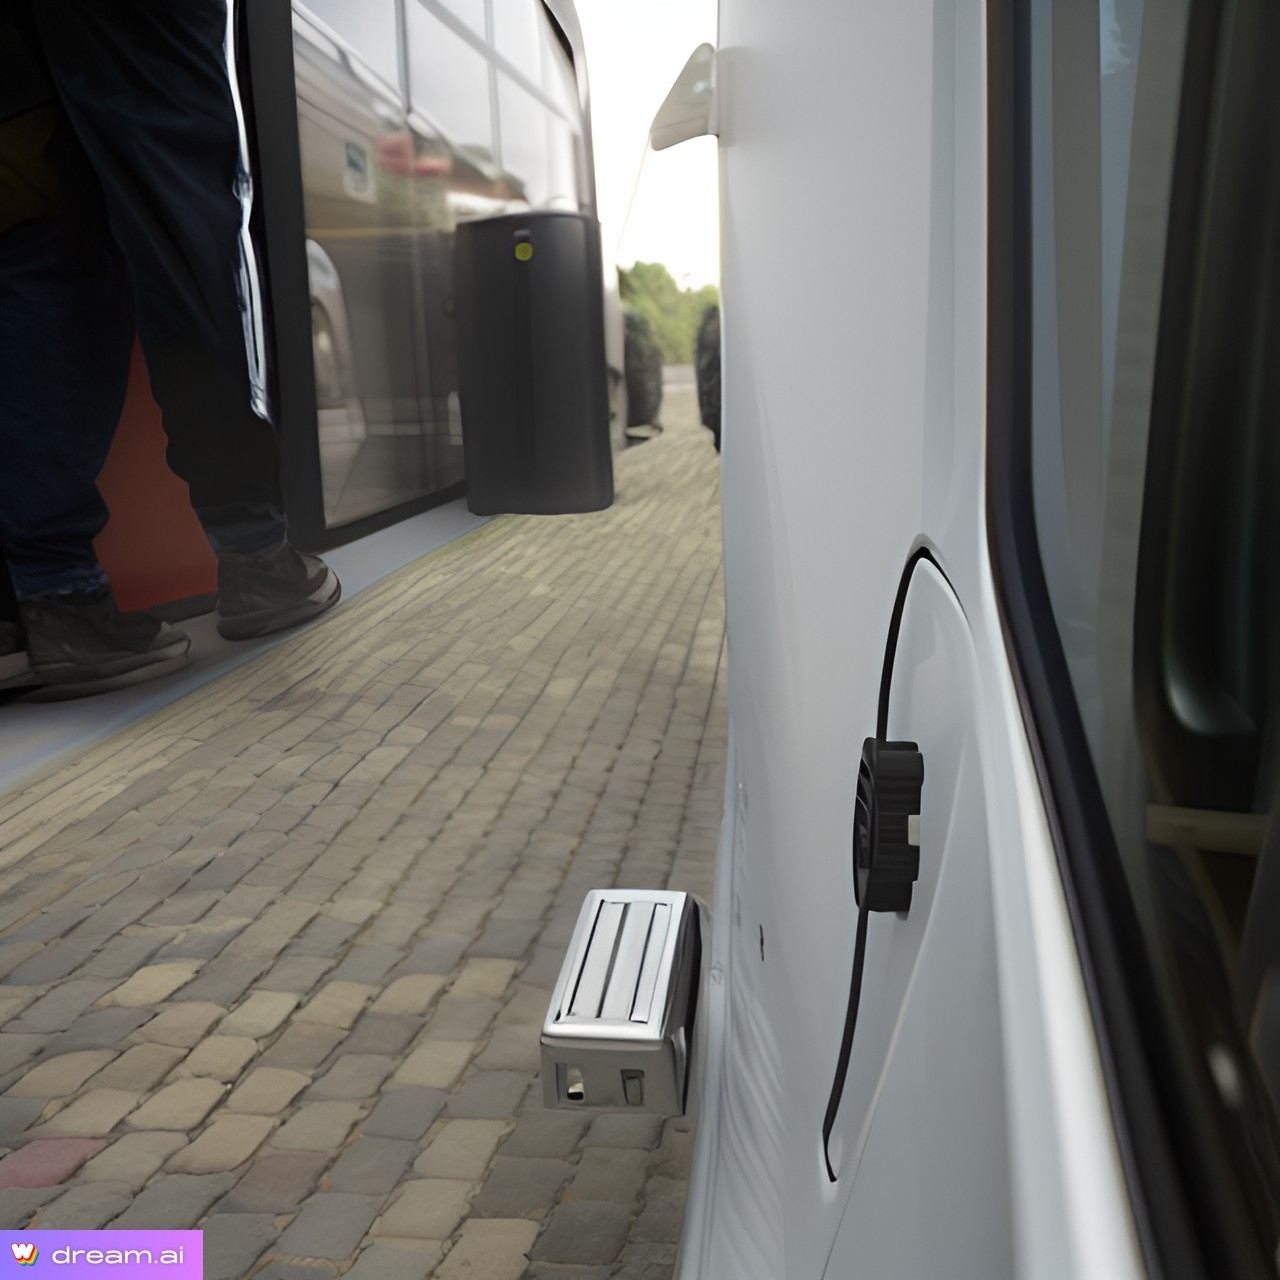step_front: (508, 856, 726, 1142)
